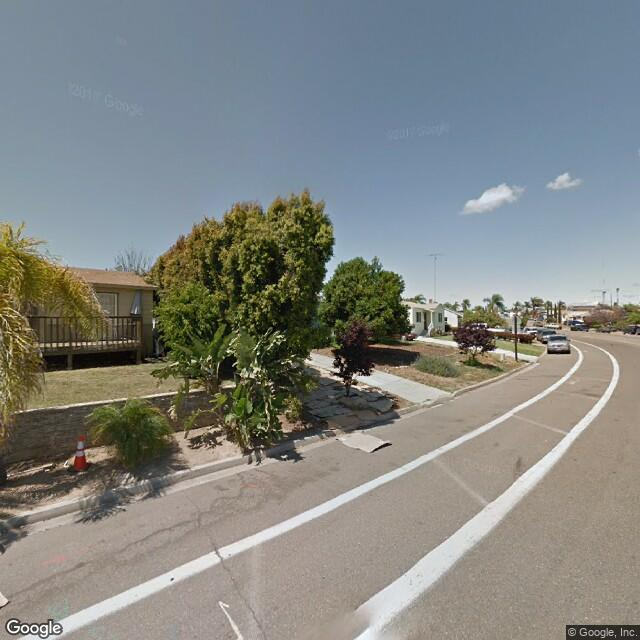litter: (335, 435, 393, 454)
